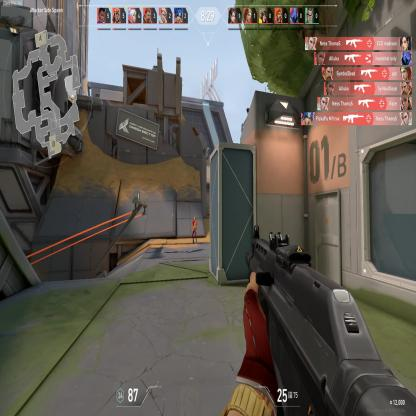enemy: (191, 216, 197, 244)
